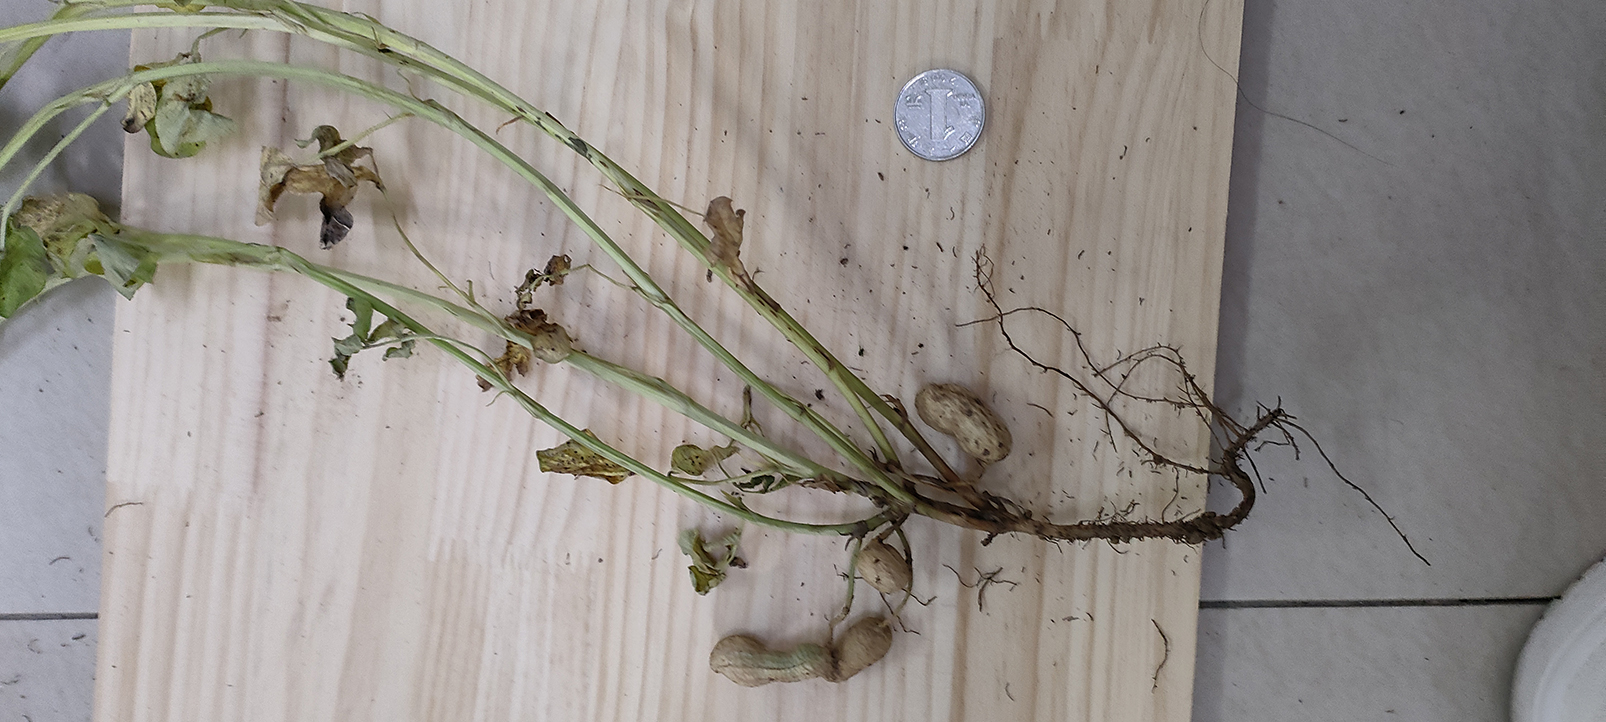h: (915, 384, 1013, 462), (709, 634, 833, 686), (833, 615, 891, 681), (856, 544, 908, 592)
